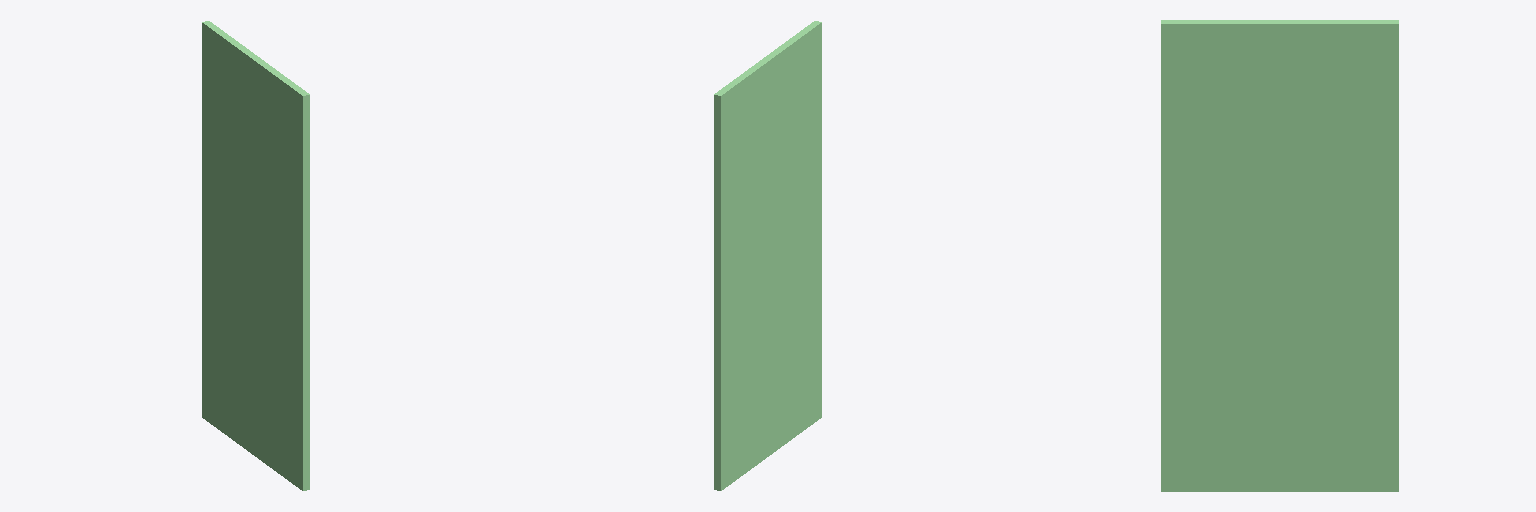
The robot description file, URDF, robot "room602-door_fixed":
<?xml version="1.0"?>
<robot name="room602-door_fixed"
       xmlns:xi="http://www.w3.org/2001/XInclude">
  <gazebo>
    <static>false</static>
  </gazebo>
  <link name="ROOM602-DOOR-BODYSET2_link">
    <visual>
      <origin xyz="0 0 0" rpy="0 -0 0"/>
      <geometry>
        <mesh filename="model://room602-door/meshes/ROOM602-DOOR-BODYSET2_link_mesh.dae" scale="1 1 1" />
      </geometry>
    </visual>
    <collision>
      <origin xyz="0 0 0" rpy="0 -0 0"/>
      <geometry>
        <mesh filename="model://room602-door/meshes/ROOM602-DOOR-BODYSET2_link_mesh.dae" scale="1 1 1" />
      </geometry>
    </collision>
    <inertial>
      <mass value="0.001" />
      <origin xyz="0 0 0" rpy="0 -0 0"/>
      <inertia ixx="1e-03" ixy="0" ixz="0" iyy="1e-03" iyz="0" izz="1e-03"/>
    </inertial>
  </link>
  <gazebo reference="ROOM602-DOOR-BODYSET2_link">
    <mu1>0.9</mu1>
    <mu2>0.9</mu2>
  </gazebo>
  <link name="ROOM602-DOOR-BODYSET3_link">
    <visual>
      <origin xyz="-0.017 -0.017 0" rpy="0 -0 0"/>
      <geometry>
        <mesh filename="model://room602-door/meshes/ROOM602-DOOR-BODYSET3_link_mesh.dae" scale="1 1 1" />
      </geometry>
    </visual>
    <collision>
      <origin xyz="-0.017 -0.017 0" rpy="0 -0 0"/>
      <geometry>
        <mesh filename="model://room602-door/meshes/ROOM602-DOOR-BODYSET3_link_mesh.dae" scale="1 1 1" />
      </geometry>
    </collision>
    <inertial>
      <mass value="0.001" />
      <origin xyz="0 0 0" rpy="0 -0 0"/>
      <inertia ixx="1e-03" ixy="0" ixz="0" iyy="1e-03" iyz="0" izz="1e-03"/>
    </inertial>
  </link>
  <gazebo reference="ROOM602-DOOR-BODYSET3_link">
    <mu1>0.9</mu1>
    <mu2>0.9</mu2>
  </gazebo>
  <joint name="DOOR" type="revolute">
    <parent link="ROOM602-DOOR-BODYSET2_link"/>
    <child  link="ROOM602-DOOR-BODYSET3_link"/>
    <origin xyz="-0.017 -0.017 0" rpy="0 -0 0 "/>
    <axis   xyz="0 0 1"/>
    <limit lower="0" upper="1.5708" effort="100" velocity="0.5" />
    <dynamics damping="0.2" friction="0" />
  </joint>
  <transmission type="pr2_mechanism_model/SimpleTransmission" name="DOOR_trans" >
    <actuator name="DOOR_motor" />
    <joint name="DOOR" />
    <mechanicalReduction>1</mechanicalReduction>
  </transmission>
  <gazebo reference="DOOR">
    <cfmDamping>0.4</cfmDamping>
  </gazebo>
  <!-- Used for fixing robot to Gazebo 'base_link' -->
  <link name="world"/>
  <joint name="fixed" type="fixed">
    <parent link="world"/>
    <child link="ROOM602-DOOR-BODYSET2_link"/>
  </joint>
</robot>

--- Facts derived from the render (not from the file) ---
Views: 3 orthographic renders of the robot side by side, from view 1: azimuth 30°, elevation 25°; view 2: azimuth 150°, elevation 25°; view 3: azimuth 270°, elevation 25°.
Model room602-door_fixed with 3 links and 2 joints (1 revolute, 1 fixed), rooted at world, posed all joints at 0.
Visible links, largest first — view 1: ROOM602-DOOR-BODYSET3_link; view 2: ROOM602-DOOR-BODYSET3_link; view 3: ROOM602-DOOR-BODYSET3_link.
Link boxes in pixels (bbox=[...]): ROOM602-DOOR-BODYSET3_link: bbox=[202, 21, 309, 490]; ROOM602-DOOR-BODYSET3_link: bbox=[714, 21, 821, 490]; ROOM602-DOOR-BODYSET3_link: bbox=[1161, 20, 1398, 491].
Size in the robot's own frame: 0.035 by 0.88 by 1.9 metres.
Meshes: 2 distinct files referenced, 2 mesh visuals loaded (2 Collada DAE).